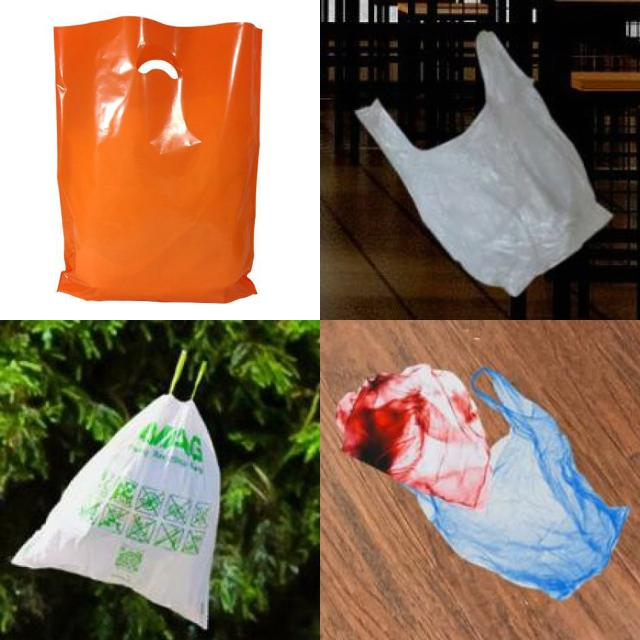Single-layer Plastic: (356, 31, 611, 296), (56, 16, 261, 302), (411, 368, 629, 599), (11, 394, 220, 629), (336, 364, 490, 508)
